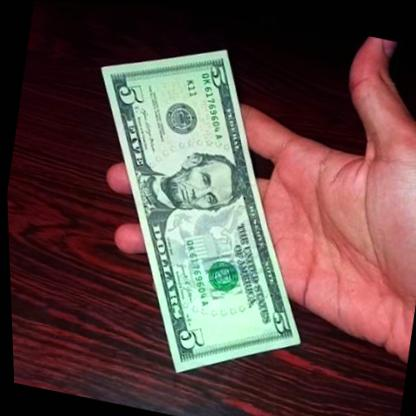dollar_front: (48, 19, 347, 393)
